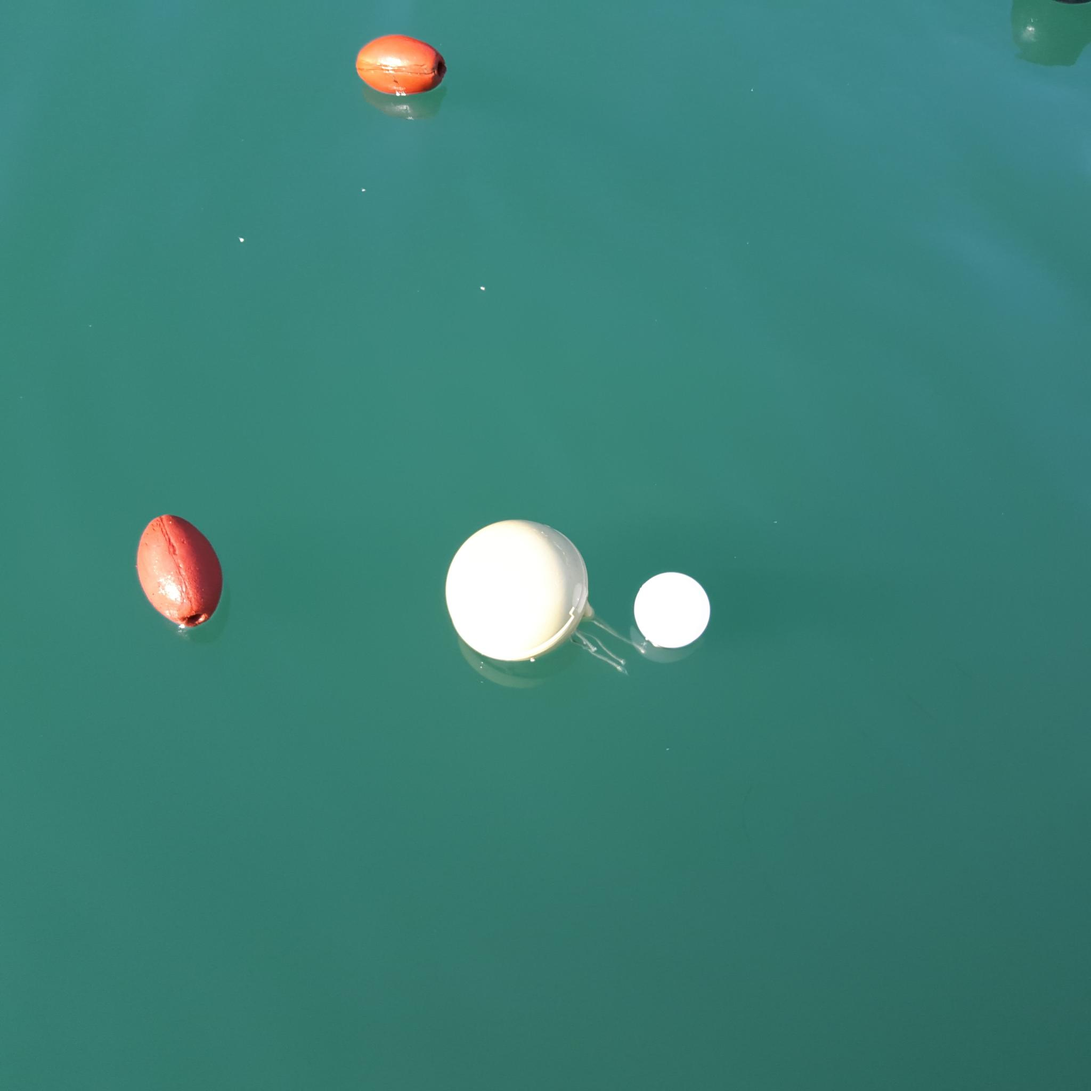sampah_terapung: (446, 519, 595, 663), (137, 515, 223, 628), (634, 572, 711, 649), (356, 36, 446, 95), (570, 616, 646, 676)
